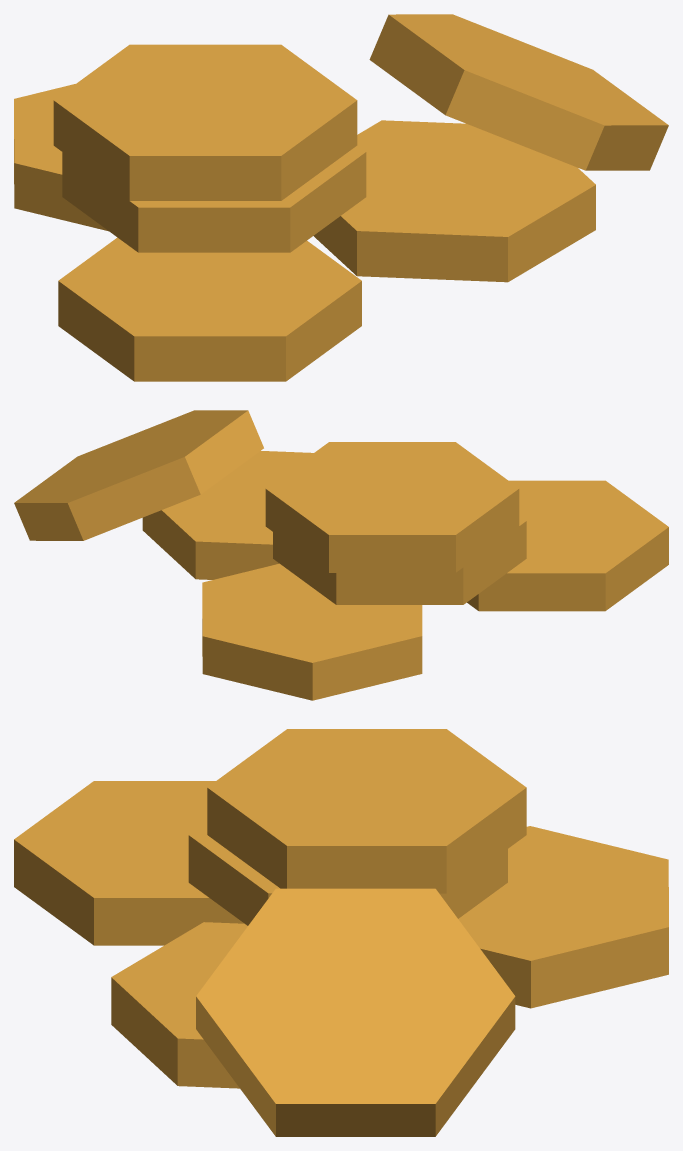
Rendered from pieces.fbx.
3 views of the same model, one above another, from view 1: azimuth 30°, elevation 25°; view 2: azimuth 150°, elevation 25°; view 3: azimuth 270°, elevation 25° (orthographic). The views are drawn at different scales.
Parts seen in each view (by area): view 1: Circle.007; view 2: Circle.007; view 3: Circle.007.
Boxes of the visible parts, x1,y1,x2,y2 form: Circle.007: (14,14,668,381); Circle.007: (14,410,668,700); Circle.007: (14,729,668,1136).
Size of the model in its own units: 9.6 by 2.16 by 8.34.
